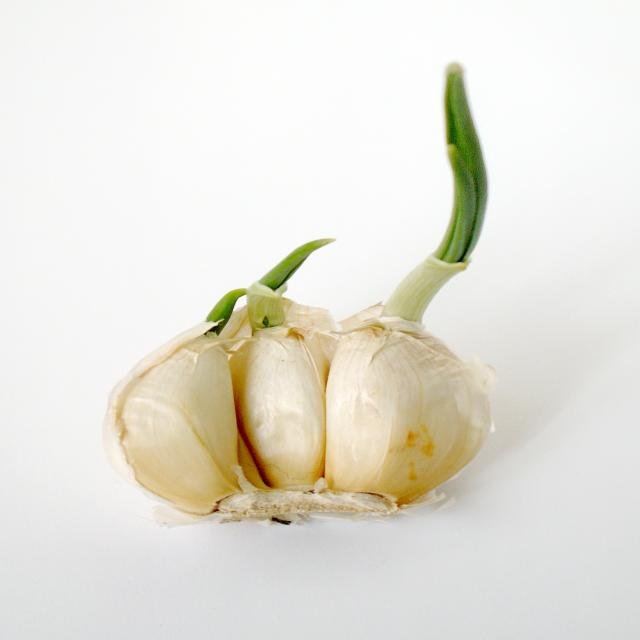garlic: (104, 241, 494, 522), (325, 64, 492, 504)
